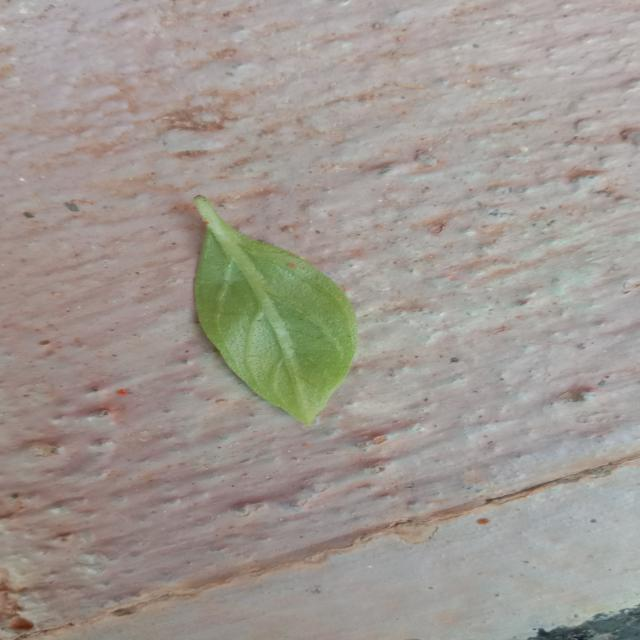kamakasturi: (195, 196, 356, 425)
